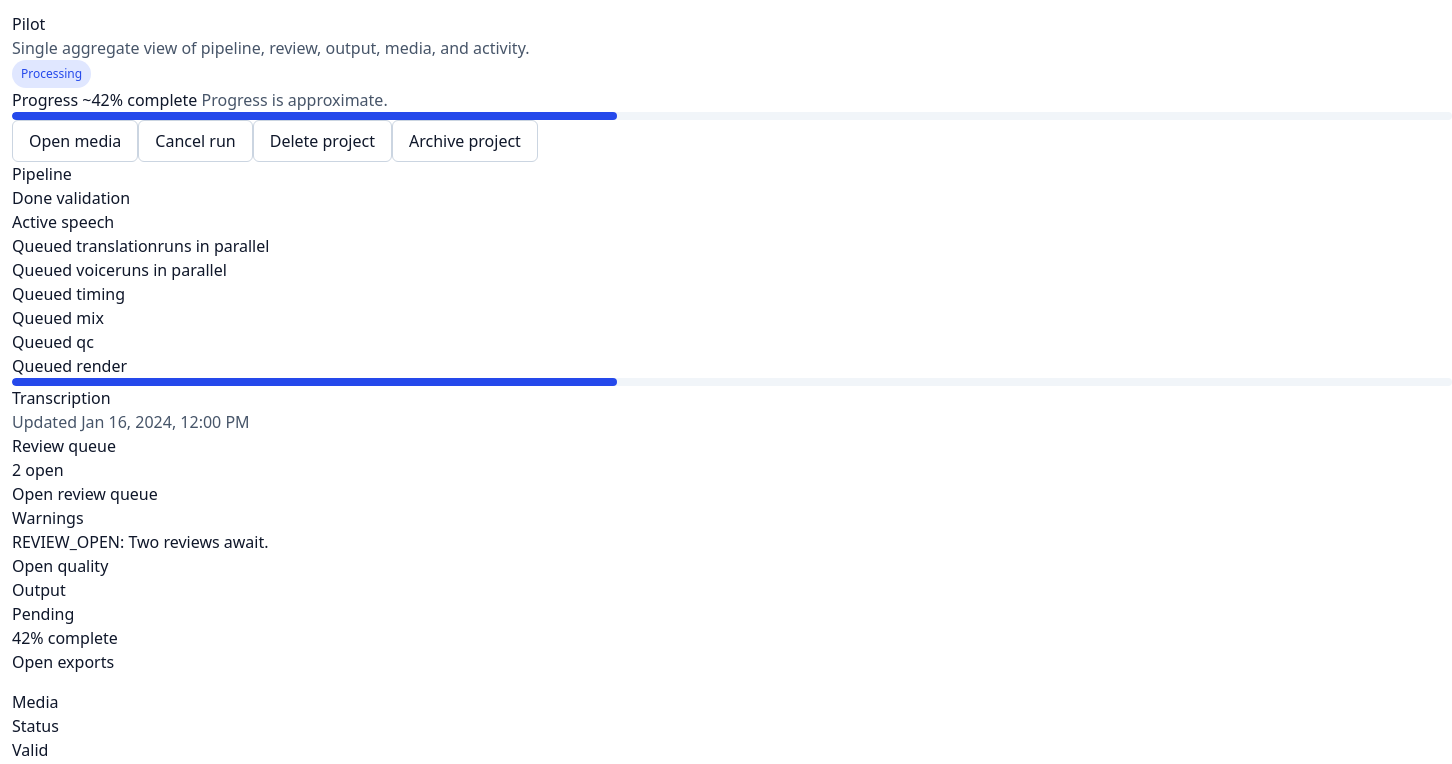
Test: run action matrix › reports cancel failures with a report ref (recovery: report id)
Expected: the element with test id "workspace-actions" is shown, [12,120,538,162]
Click the button with test id "workspace-action-cancel" at [196, 141], box [138,120,253,162]
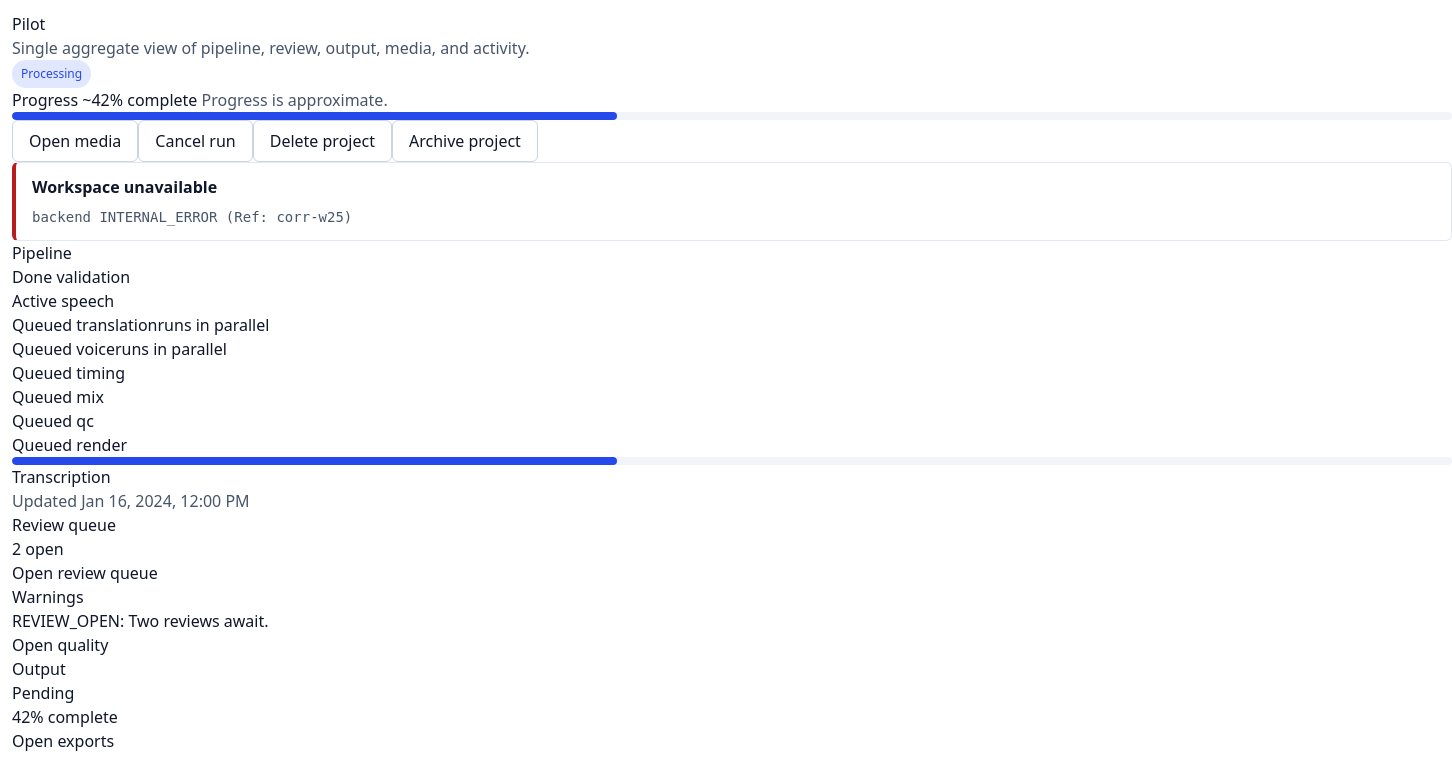
Result: the element with test id "workspace-action-error" shows "Ref: corr-w25" at [32,209,352,225]
